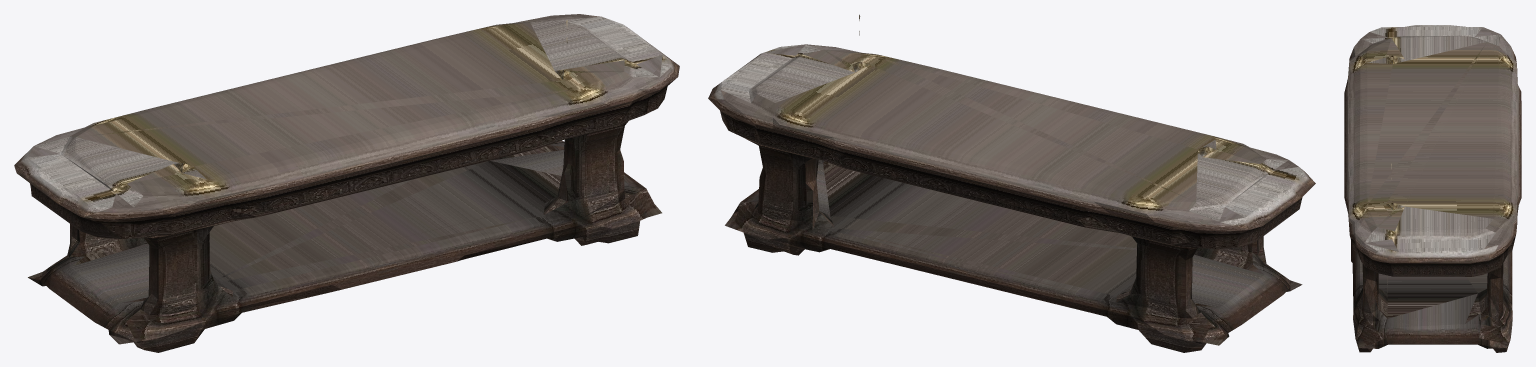
Rendered from longtable_high.glb.
3 views of the same model, side by side, from view 1: azimuth 30°, elevation 25°; view 2: azimuth 150°, elevation 25°; view 3: azimuth 270°, elevation 25° (orthographic). The views are drawn at different scales.
Parts seen in each view (by area): view 1: longtable_high; view 2: longtable_high; view 3: longtable_high.
Boxes of the visible parts, box(x1,y1,x2,y2) form: longtable_high: box(14, 14, 679, 352); longtable_high: box(708, 14, 1315, 352); longtable_high: box(1344, 25, 1521, 352).
Size of the model in its own units: 3.11 by 1.05 by 0.9928.
1 material, 1 textured.
